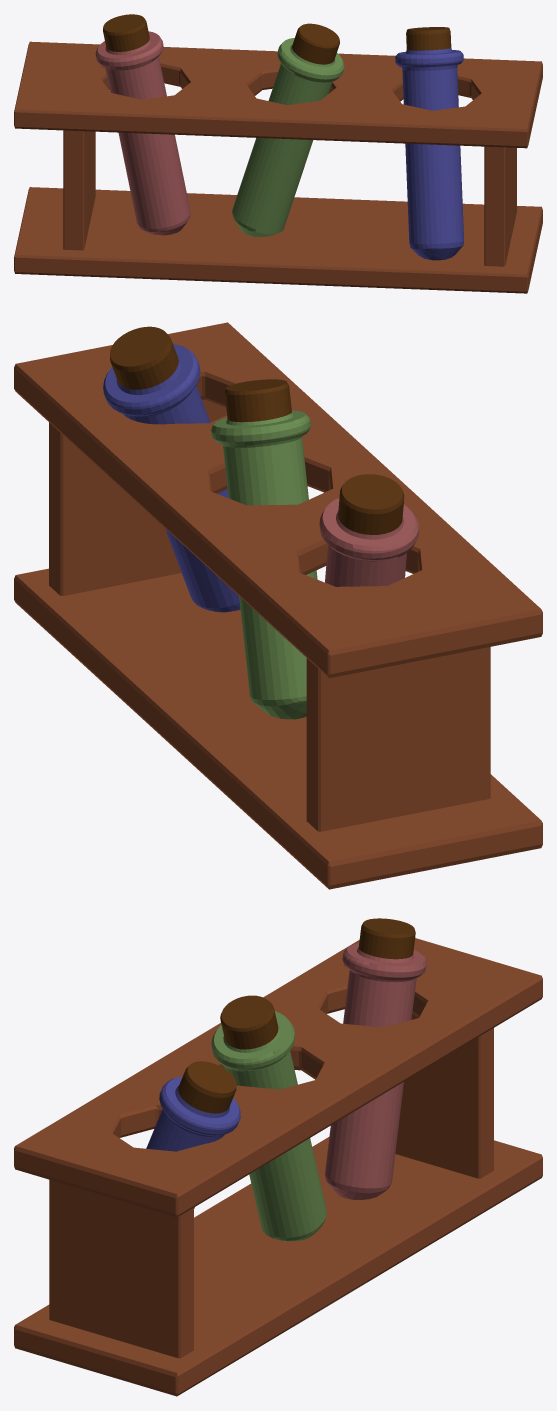
File: Testtubes.fbx
The picture shows the model from 3 angles, top to bottom: view 1: azimuth 30°, elevation 25°; view 2: azimuth 150°, elevation 25°; view 3: azimuth 270°, elevation 25°; orthographic projection. The views are drawn at different scales.
Visible parts, largest first — view 1: Cylinder.003; view 2: Cylinder.003; view 3: Cylinder.003.
Part boxes in pixels (bbox=[...]): Cylinder.003: bbox=[14, 14, 542, 293]; Cylinder.003: bbox=[14, 322, 542, 889]; Cylinder.003: bbox=[14, 918, 542, 1396].
Size of the model in its own units: 96.65 by 46.41 by 80.78.
